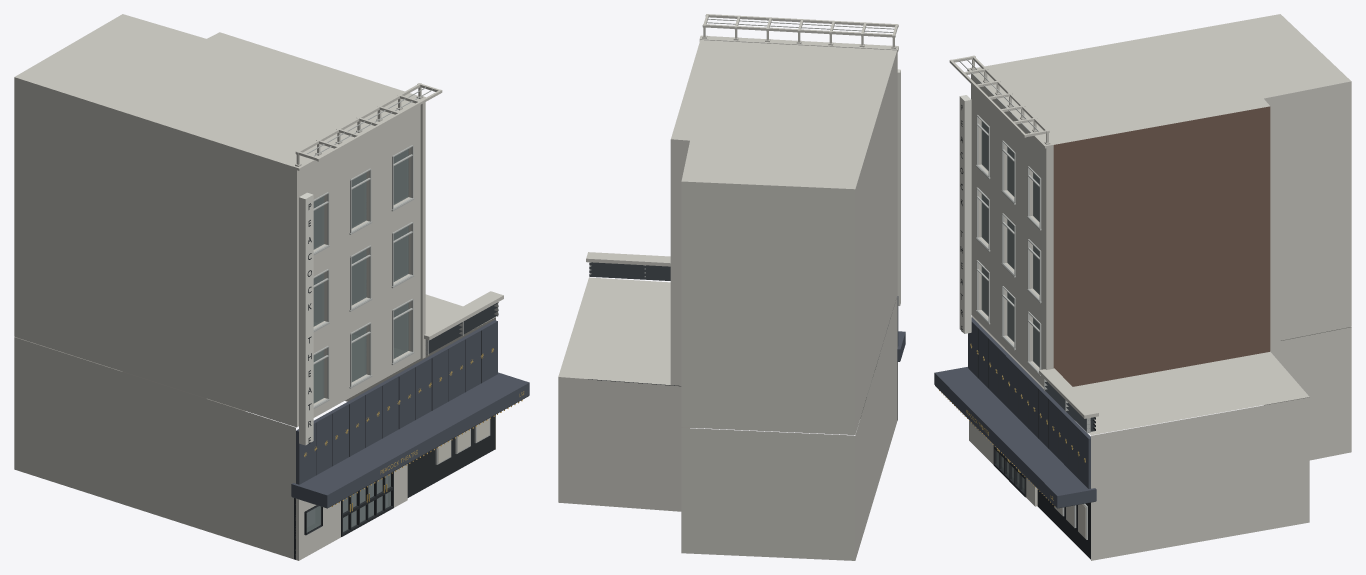
The model's file is pea-exterior-8fa6a2a767d4.glb.
3 views of the same model, side by side, from view 1: azimuth 30°, elevation 25°; view 2: azimuth 150°, elevation 25°; view 3: azimuth 270°, elevation 25° (orthographic). The views are drawn at different scales.
Visible parts, largest first — view 1: PEA.001; view 2: PEA.001; view 3: PEA.001.
Boxes of the visible parts, <box> form: PEA.001: <box>14,14,529,560</box>; PEA.001: <box>558,14,905,560</box>; PEA.001: <box>934,14,1351,560</box>.
Size of the model in its own units: 20.67 by 20.22 by 19.87.
